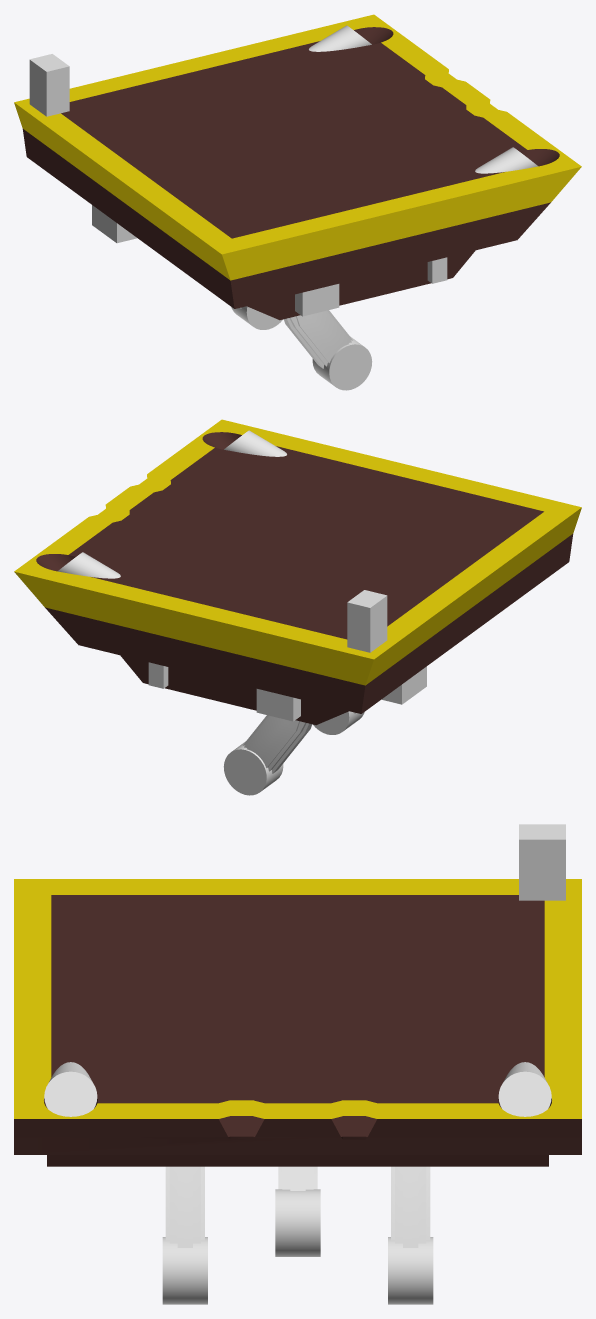
Rendered from LiftPlatform.fbx.
3 views of the same model, one above another, from view 1: azimuth 30°, elevation 25°; view 2: azimuth 150°, elevation 25°; view 3: azimuth 270°, elevation 25° (orthographic). The views are drawn at different scales.
Parts seen in each view (by area): view 1: Cube, Cube.004, Cube.003, Lamp, Cube.002, Cube.006; view 2: Cube, Cube.004, Cube.003, Lamp, Cube.002, Cube.006; view 3: Cube, Cube.004, Lamp, Cube.005, Cube.003.
Part boxes in pixels (x1,y1,x2,y2): Cube: (14, 14, 581, 320); Cube.004: (231, 306, 372, 390); Cube.003: (29, 54, 69, 116); Lamp: (309, 25, 538, 173); Cube.002: (295, 257, 447, 316); Cube.006: (92, 205, 137, 243); Cube: (14, 419, 581, 725); Cube.004: (223, 711, 364, 795); Cube.003: (347, 590, 387, 652); Lamp: (57, 430, 286, 578); Cube.002: (148, 662, 300, 721); Cube.006: (381, 666, 426, 704); Cube: (14, 879, 581, 1166); Cube.004: (162, 1166, 433, 1304); Lamp: (44, 1062, 551, 1116); Cube.005: (275, 1166, 320, 1256); Cube.003: (519, 824, 565, 900).
Size of the model in its own units: 400 by 281 by 400.
